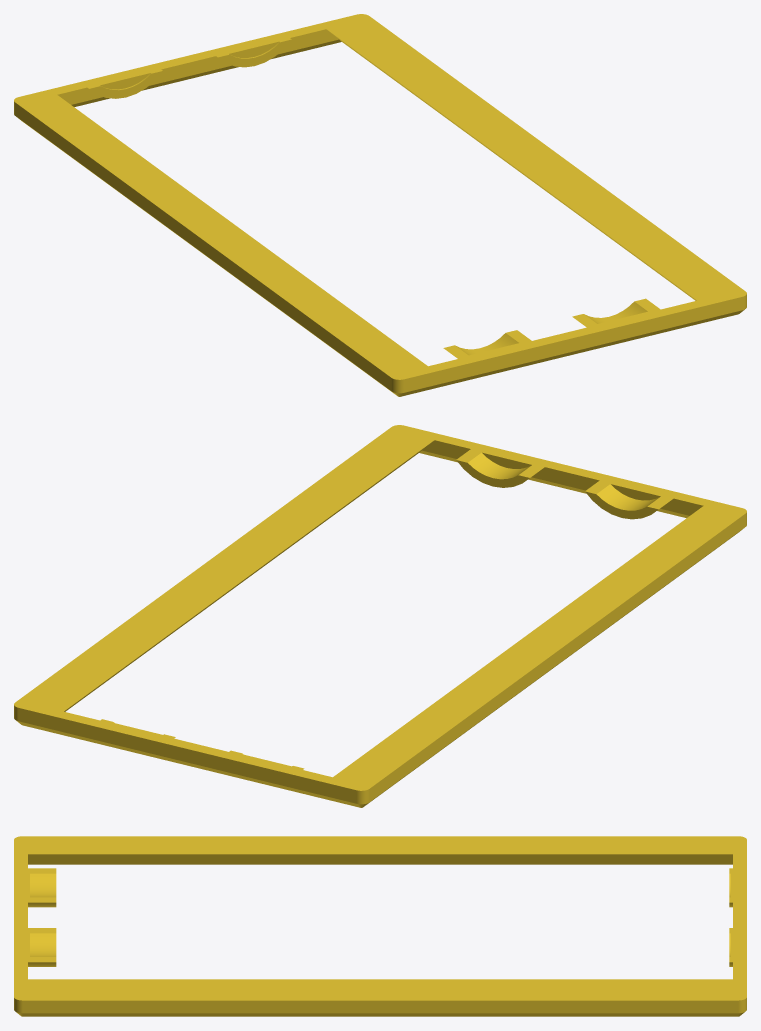
File: Astro_Vac_VacVaseDoor.fbx
The picture shows the model from 3 angles, top to bottom: view 1: azimuth 30°, elevation 25°; view 2: azimuth 150°, elevation 25°; view 3: azimuth 270°, elevation 25°; orthographic projection. The views are drawn at different scales.
Parts seen in each view (by area): view 1: VacVaseDoor; view 2: VacVaseDoor; view 3: VacVaseDoor.
Part boxes in pixels (left/top/right/bottom): VacVaseDoor: left=14, top=14, right=746, bottom=396; VacVaseDoor: left=14, top=425, right=746, bottom=807; VacVaseDoor: left=14, top=836, right=746, bottom=1016.
Bounding box in the file's own units: 13.97 × 0.762 × 26.35.
